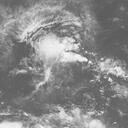cyclone: (29, 28, 89, 71)
